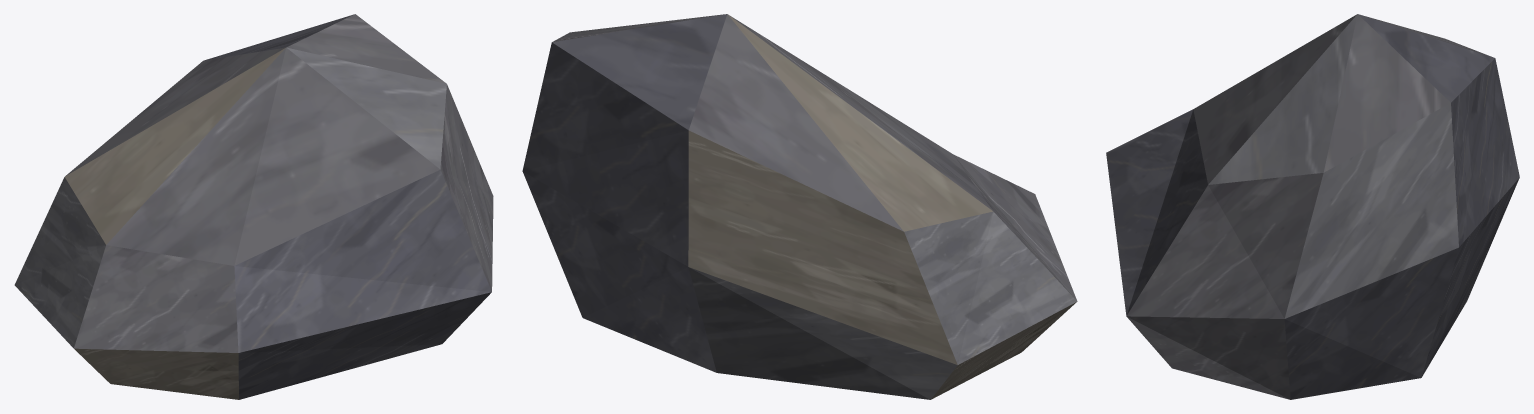
Rendered from debris_rock_cobble.glb.
3 renders of one model, left to right at view 1: azimuth 30°, elevation 25°; view 2: azimuth 150°, elevation 25°; view 3: azimuth 270°, elevation 25°, orthographic. The views are drawn at different scales.
Visible parts, largest first — view 1: Split Cobble; view 2: Split Cobble; view 3: Split Cobble.
Part boxes in pixels (x1=…): Split Cobble: x1=14, y1=14, x2=493, y2=399; Split Cobble: x1=522, y1=14, x2=1077, y2=399; Split Cobble: x1=1106, y1=14, x2=1519, y2=399.
Size of the model in its own units: 0.146 by 0.084 by 0.102.
Materials: 1 (1 with a texture image).
